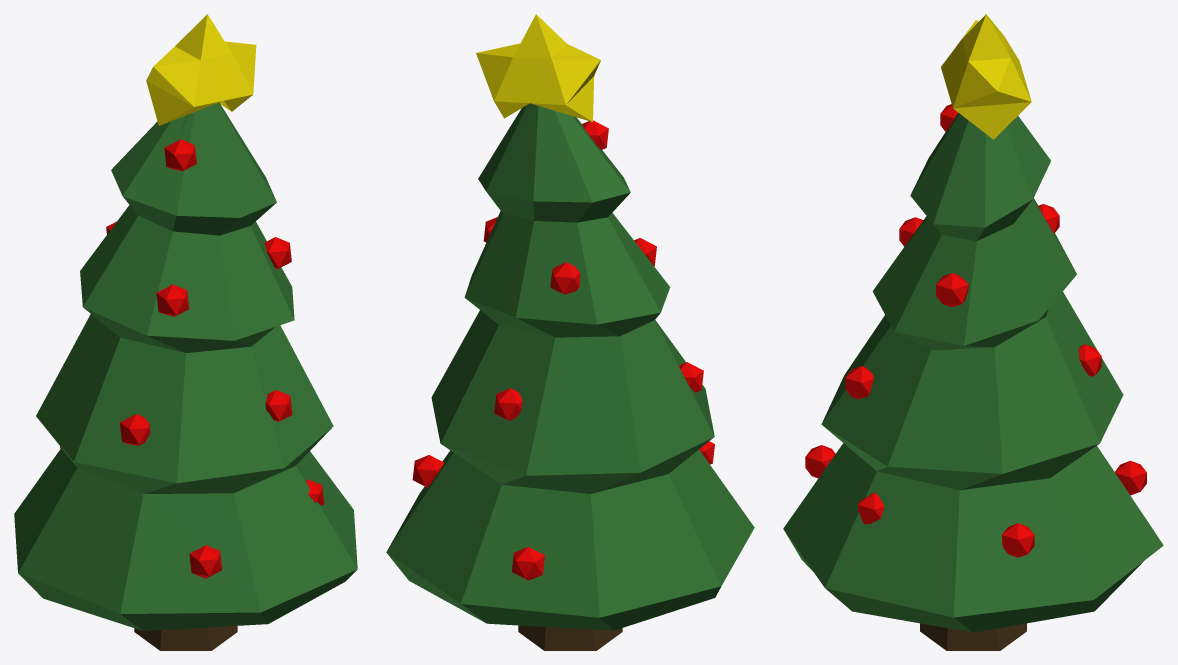
File: ChristmasTree.fbx
3 renders of one model, left to right at view 1: azimuth 30°, elevation 25°; view 2: azimuth 150°, elevation 25°; view 3: azimuth 270°, elevation 25°, orthographic. The views are drawn at different scales.
Visible parts, largest first — view 1: ChristmasTree; view 2: ChristmasTree; view 3: ChristmasTree.
Part boxes in pixels (x1,y1,x2,y2): ChristmasTree: (14, 14, 357, 650); ChristmasTree: (386, 14, 754, 650); ChristmasTree: (783, 14, 1163, 650).
Size of the model in its own units: 1.45 by 2.65 by 1.45.
